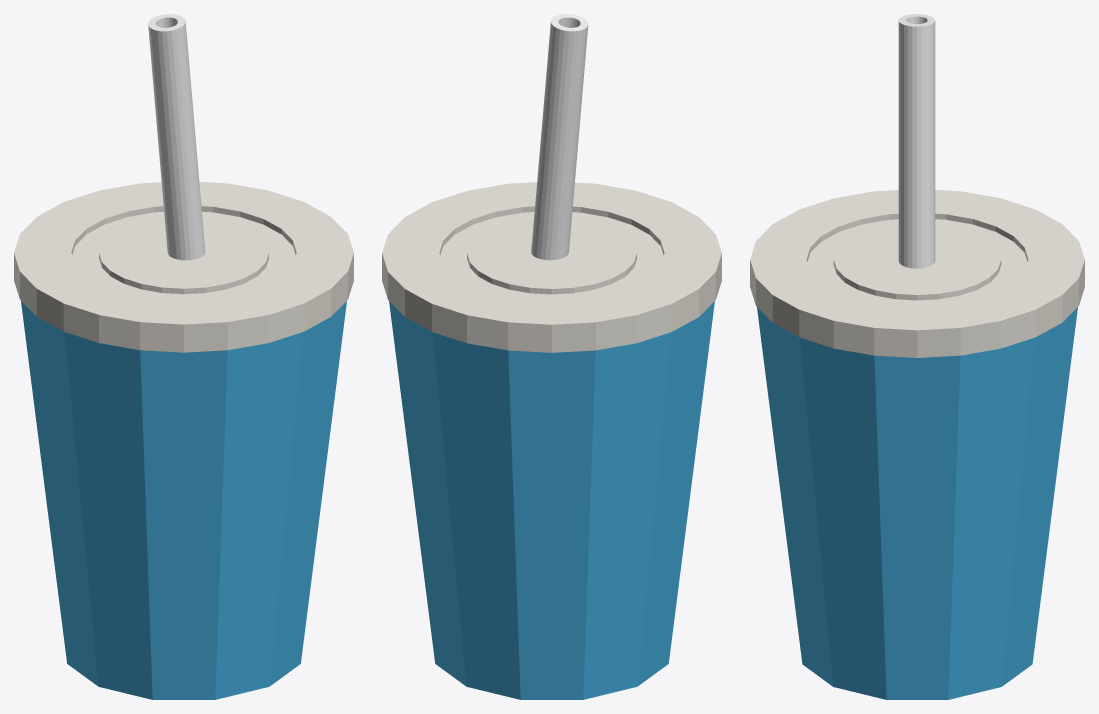
The model's file is Fast Food Cup 3.glb.
The picture shows the model from 3 angles, left to right: view 1: azimuth 30°, elevation 25°; view 2: azimuth 150°, elevation 25°; view 3: azimuth 270°, elevation 25°; orthographic projection.
Parts seen in each view (by area): view 1: Fast Food Cup 3; view 2: Fast Food Cup 3; view 3: Fast Food Cup 3.
Part boxes in pixels (<box>): Fast Food Cup 3: <box>14,14,353,699</box>; Fast Food Cup 3: <box>382,14,721,699</box>; Fast Food Cup 3: <box>750,14,1084,699</box>.
Size of the model in its own units: 0.5818 by 1.2 by 0.5818.
